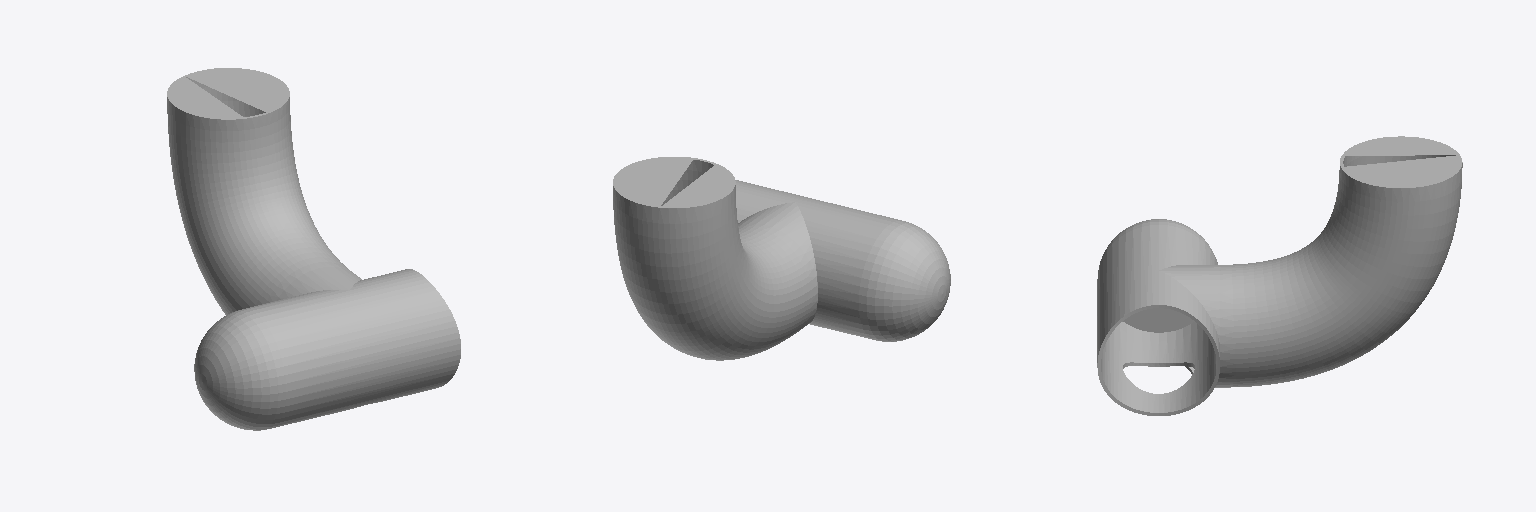
Rendered from SupportPipeFR.obj.
The picture shows the model from 3 angles: view 1: azimuth 30°, elevation 25°; view 2: azimuth 150°, elevation 25°; view 3: azimuth 270°, elevation 25°; orthographic projection.
Visible parts, largest first — view 1: SupportPipeFR_Support_Pipe_v16.008; view 2: SupportPipeFR_Support_Pipe_v16.008; view 3: SupportPipeFR_Support_Pipe_v16.008.
Boxes of the visible parts, x1,y1,x2,y2 form: SupportPipeFR_Support_Pipe_v16.008: [167, 68, 460, 430]; SupportPipeFR_Support_Pipe_v16.008: [613, 157, 950, 360]; SupportPipeFR_Support_Pipe_v16.008: [1097, 136, 1462, 415].
Bounding box in the file's own units: 0.0728 × 0.067 × 0.101.